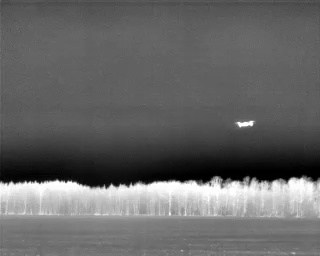DRONE: (232, 115, 259, 133)
